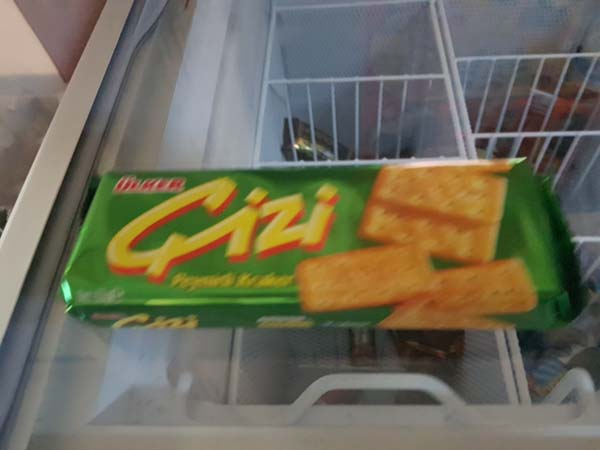cizi: (55, 144, 583, 338)
